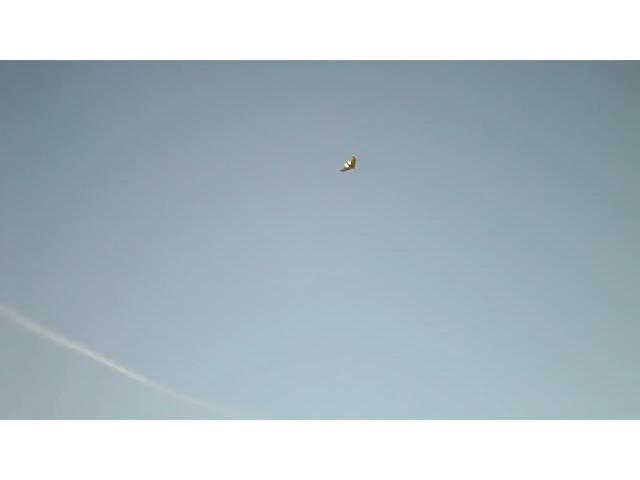Anti-Drone: (340, 155, 356, 172)
